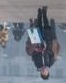person: (32, 6, 58, 79), (11, 21, 26, 42), (1, 20, 10, 49)
